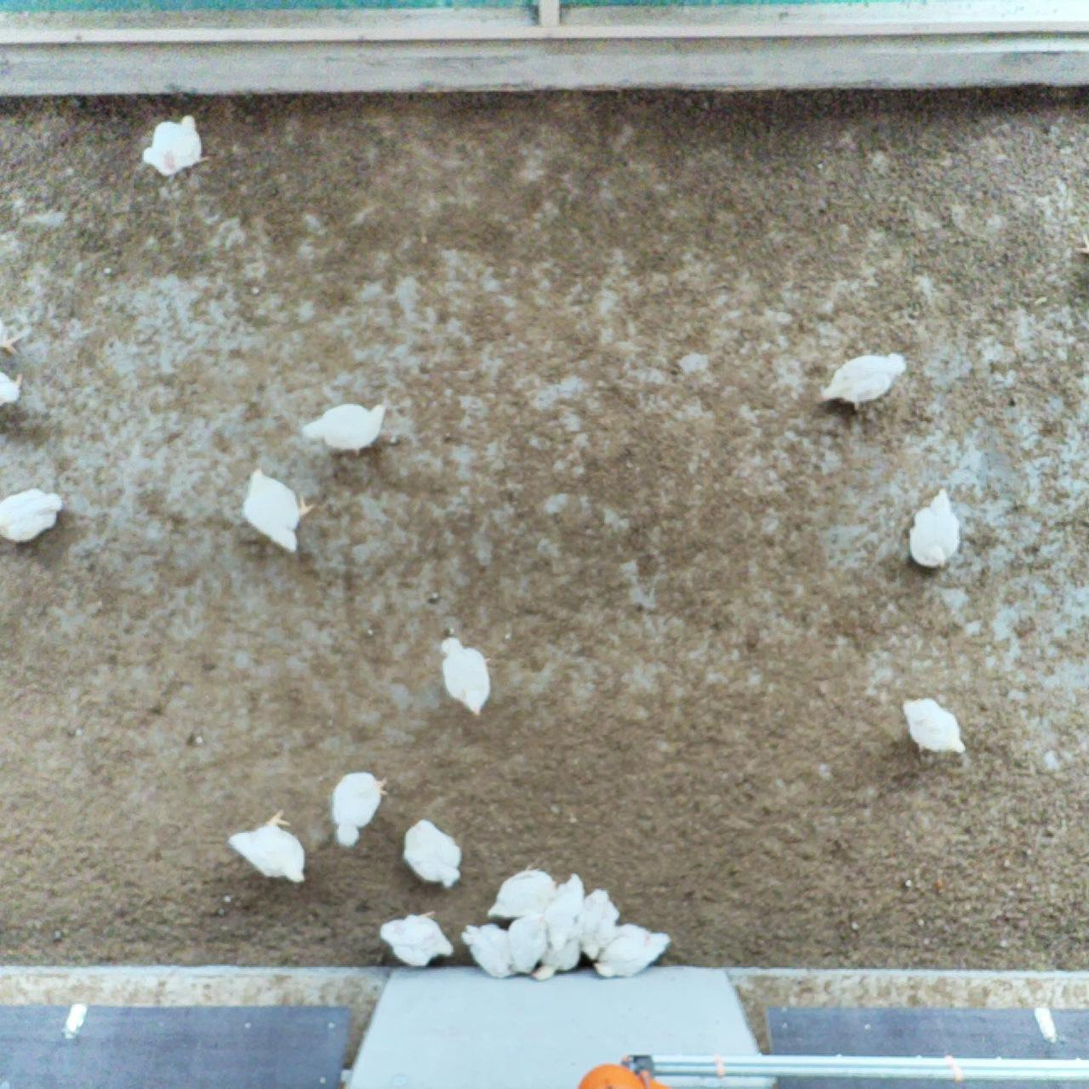chicken: (239, 462, 319, 559), (224, 806, 311, 887), (814, 344, 910, 416), (296, 399, 391, 461), (902, 485, 965, 576), (325, 768, 392, 851), (592, 920, 677, 983), (435, 633, 495, 720), (138, 113, 214, 181), (400, 811, 465, 889), (378, 909, 456, 973), (898, 694, 969, 762), (488, 860, 558, 925), (0, 485, 67, 546), (545, 868, 590, 954), (459, 918, 518, 980), (584, 884, 626, 964), (505, 909, 554, 976), (529, 929, 582, 986), (0, 366, 29, 412)
